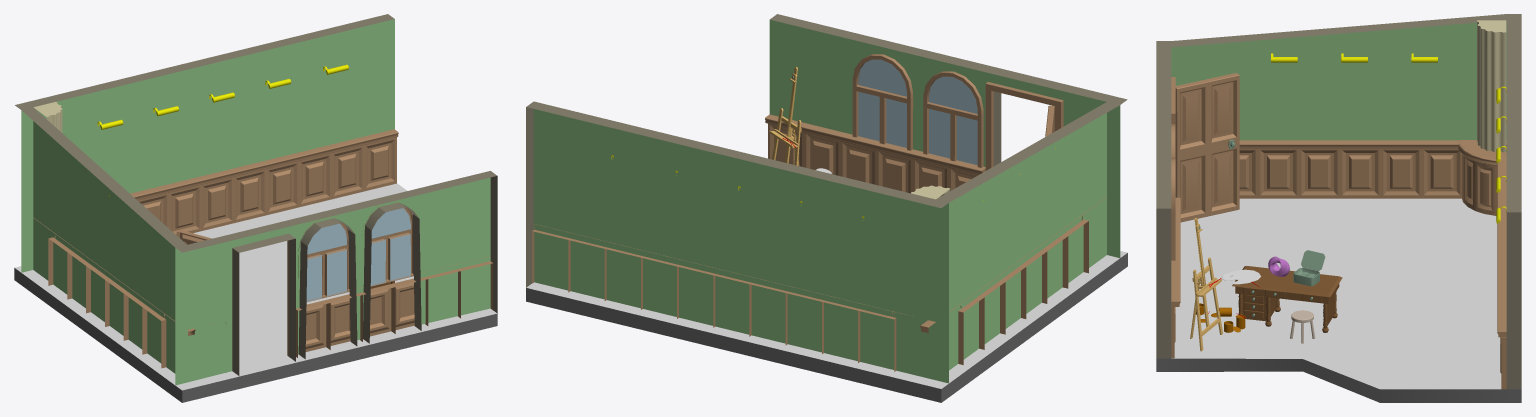
Rendered from MA_Studio.fbx.
3 renders of one model, left to right at view 1: azimuth 30°, elevation 25°; view 2: azimuth 150°, elevation 25°; view 3: azimuth 270°, elevation 25°, orthographic. The views are drawn at different scales.
Visible parts, largest first — view 1: pWalls, pWallWood, pFloor, pWindows, pPillars; view 2: pWalls, pWallWood, pFloor, pWindows, pStaffli; view 3: pFloor, pWalls, pWallWood, pDoor, pPillars, pDesk, pStaffli, pRegister, pStool, pCylinder1, pMobeus.
Part boxes in pixels (box(x1,y1,x2,y2)): pWalls: box(15, 14, 497, 385); pWallWood: box(33, 129, 493, 368); pFloor: box(14, 183, 497, 402); pWindows: box(306, 208, 410, 301); pPillars: box(34, 102, 62, 132); pWalls: box(526, 14, 1127, 383); pWallWood: box(532, 54, 1106, 371); pFloor: box(526, 251, 1127, 402); pWindows: box(858, 59, 977, 165); pStaffli: box(769, 67, 801, 165); pFloor: box(1156, 198, 1521, 402); pWalls: box(1156, 14, 1521, 389); pWallWood: box(1171, 77, 1506, 389); pDoor: box(1175, 73, 1239, 222); pPillars: box(1477, 20, 1506, 152); pDesk: box(1232, 266, 1342, 332); pStaffli: box(1190, 218, 1222, 351); pRegister: box(1293, 250, 1325, 286); pStool: box(1290, 310, 1315, 343); pCylinder1: box(1222, 269, 1260, 284); pMobeus: box(1268, 256, 1289, 276).
Bounding box in the file's own units: 736 × 329 × 572.
